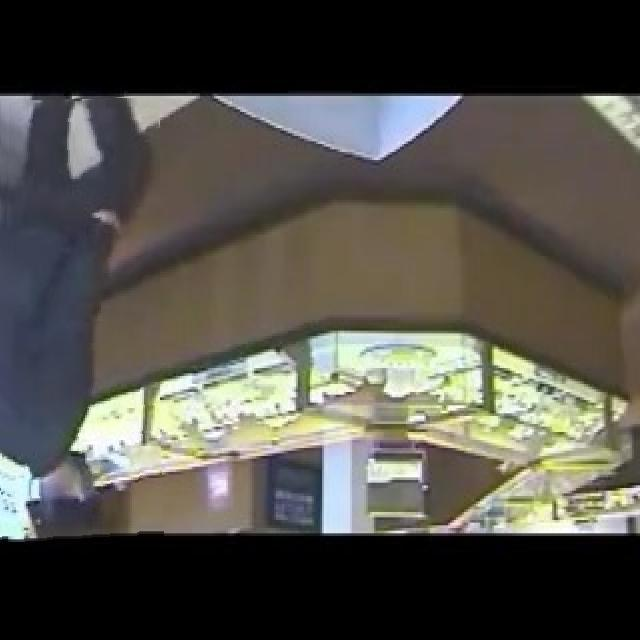normal: (0, 97, 160, 544)
